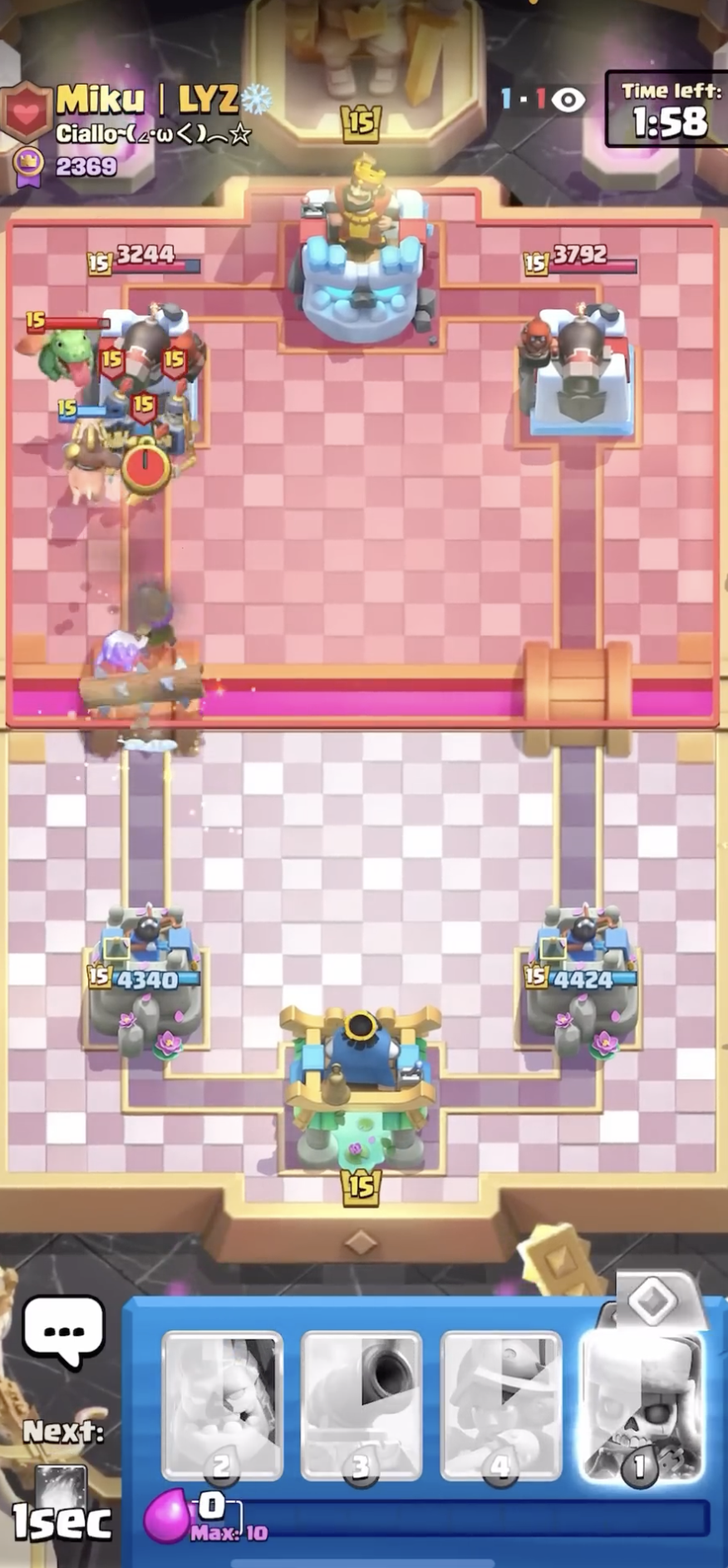baby-dragon: (19, 297, 117, 389)
